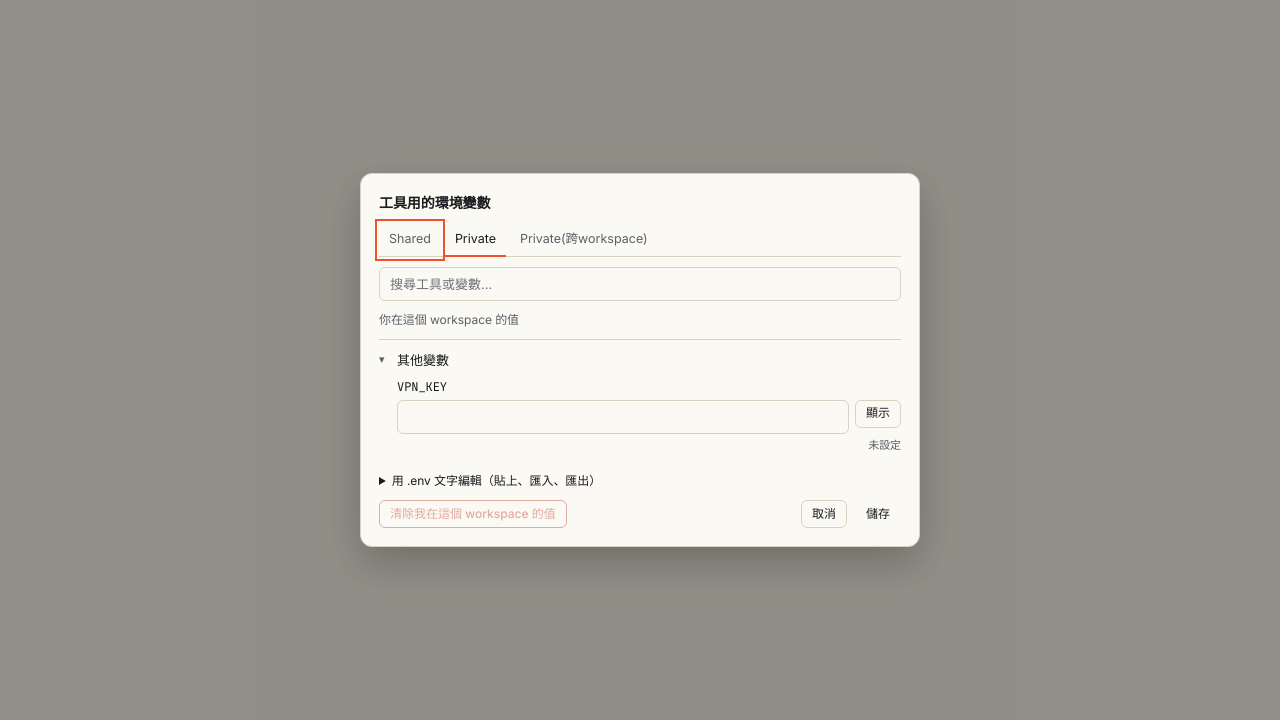
Scenario: ItemEnvModal › opens on the person's own values, with the item's layers loaded
Expected: the element with test id "env-mine-row-VPN_KEY" is shown, x1=397 y1=378 x2=901 y2=454
Click the tab with test id "env-tab-shared" at (410, 240), box x1=379 y1=224 x2=441 y2=257
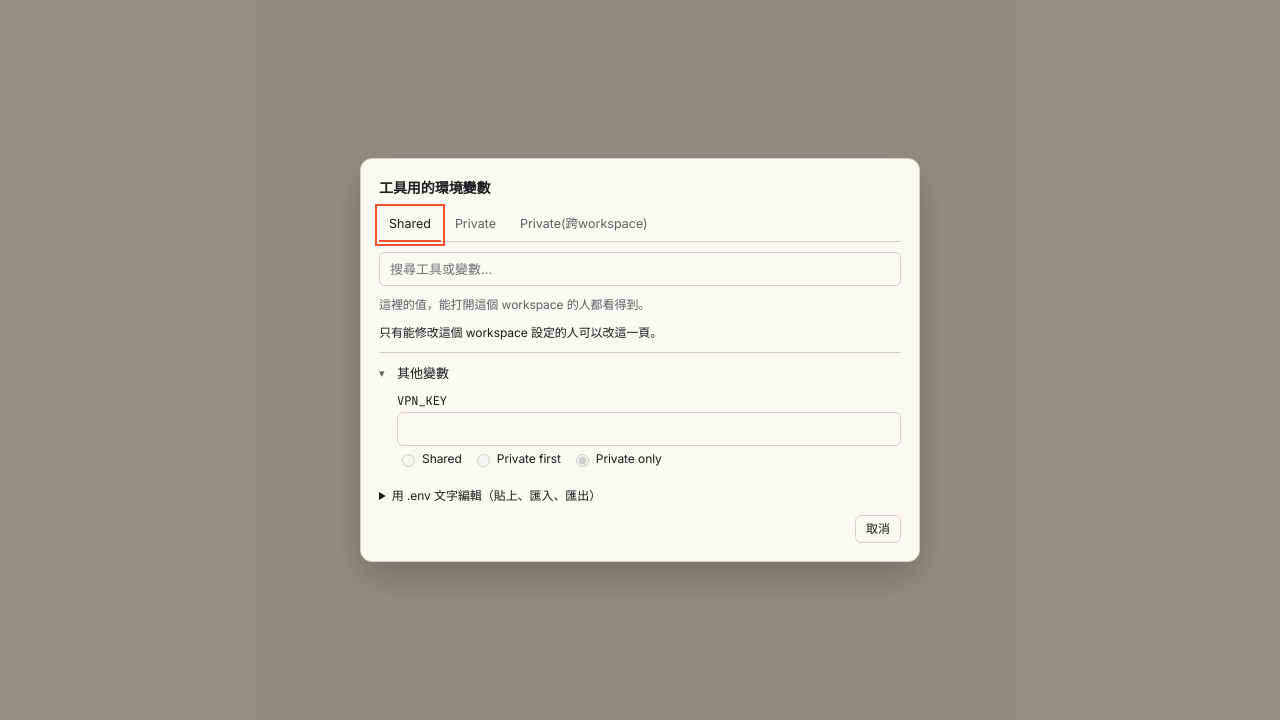
Expected: the text "只有能修改這個 workspace 設定的人可以改這一頁。" is shown, x1=379 y1=325 x2=662 y2=340
